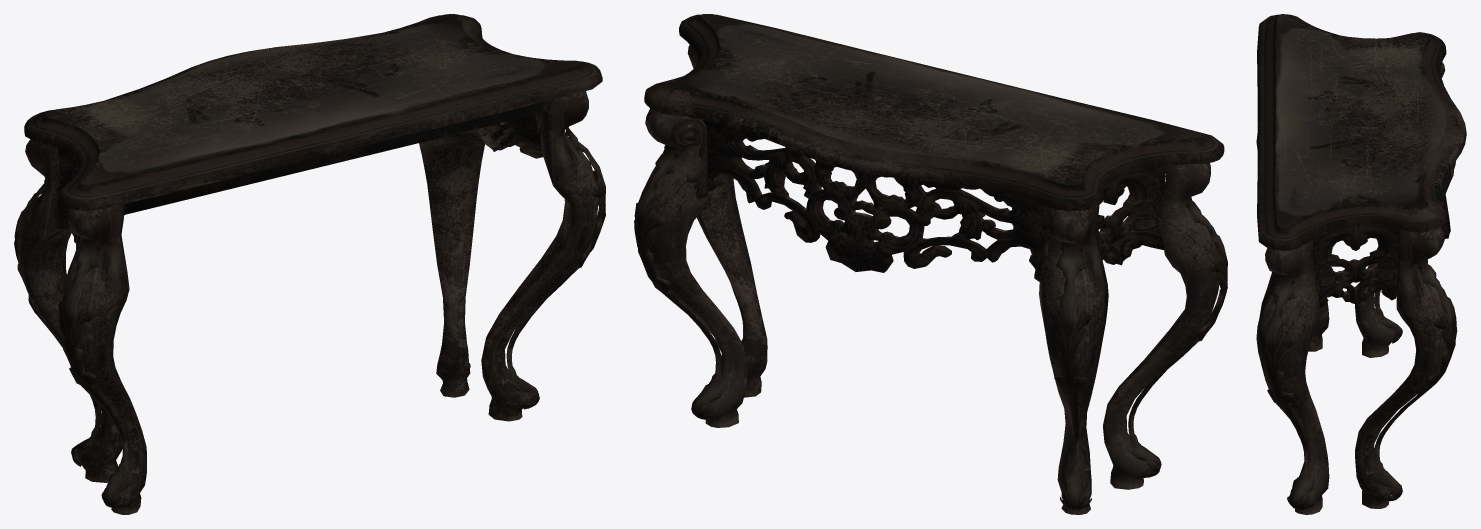
File: ClassicConsole_01.glb
3 renders of one model, left to right at view 1: azimuth 30°, elevation 25°; view 2: azimuth 150°, elevation 25°; view 3: azimuth 270°, elevation 25°, orthographic. The views are drawn at different scales.
Parts seen in each view (by area): view 1: ClassicConsole_01; view 2: ClassicConsole_01; view 3: ClassicConsole_01.
Boxes of the visible parts, left/top/right/bottom form: ClassicConsole_01: left=14, top=14, right=605, bottom=514; ClassicConsole_01: left=634, top=14, right=1227, bottom=514; ClassicConsole_01: left=1256, top=14, right=1466, bottom=514.
Bounding box in the file's own units: 1.54 × 0.9491 × 0.5892.
Materials: 1 (1 with a texture image).
